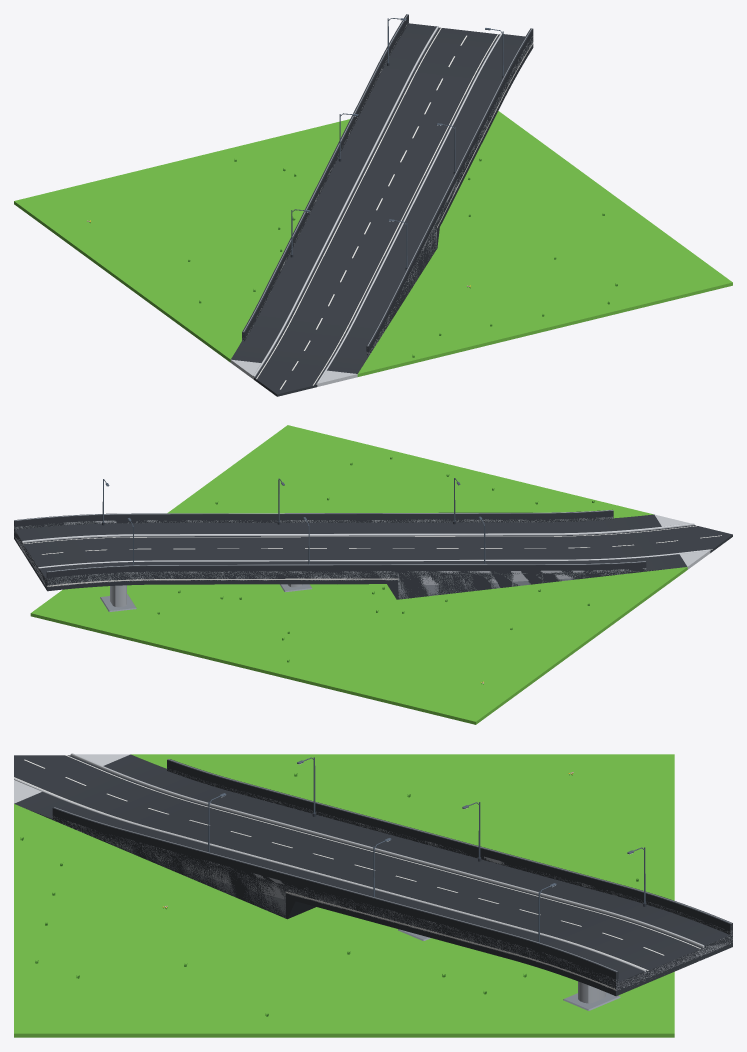
File: ponte_diagonal_cabeceira_rua.glb
3 renders of one model, top to bottom at view 1: azimuth 30°, elevation 25°; view 2: azimuth 150°, elevation 25°; view 3: azimuth 270°, elevation 25°, orthographic. The views are drawn at different scales.
Parts seen in each view (by area): view 1: ponte_diagonal_cabeceira_rua, colisao_rampa; view 2: ponte_diagonal_cabeceira_rua, colisao_rampa; view 3: ponte_diagonal_cabeceira_rua, colisao_rampa.
Boxes of the visible parts, x1=… form: ponte_diagonal_cabeceira_rua: x1=14, y1=14, x2=732, y2=396; colisao_rampa: x1=231, y1=14, x2=533, y2=373; ponte_diagonal_cabeceira_rua: x1=14, y1=425, x2=732, y2=724; colisao_rampa: x1=14, y1=509, x2=687, y2=599; ponte_diagonal_cabeceira_rua: x1=14, y1=753, x2=732, y2=1037; colisao_rampa: x1=14, y1=754, x2=732, y2=996.
Bounding box in the file's own units: 65.31 × 13.5 × 65.31.
Materials: 2 (1 with a texture image).
